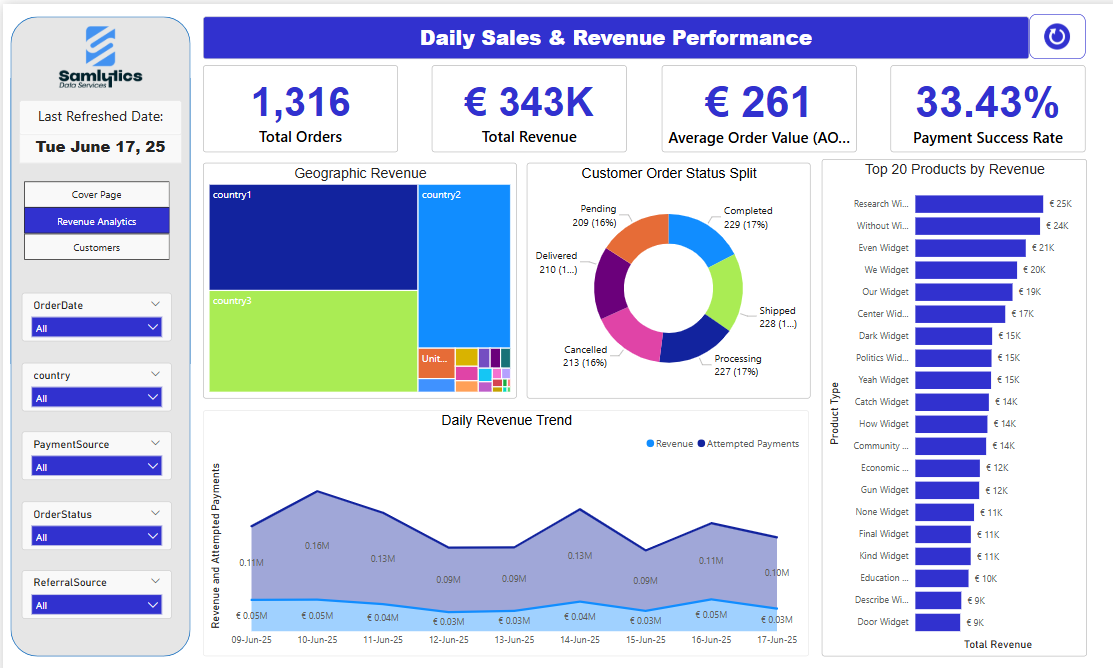

This screenshot's page, from the dashboard's own definition file:
{"tool":"powerbi","page":{"name":"Revenue Analytics","canvas":[1500,900],"ordinal":1},"visuals":[{"type":"shape","box":[10,16.7,240,853.3],"z":0},{"type":"textbox","box":[266.7,16.7,1101.7,56.7],"z":1000},{"type":"card","title":"Total Revenue","fields":{"Values":["Measures_Table.Total Revenue"]},"box":[572,82,260,116],"z":2000},{"type":"card","title":"Total Orders","fields":{"Values":["Measures_Table.Total Orders"]},"box":[266,82,260,116],"z":3000},{"type":"card","title":"Last Refreshed","fields":{"Values":["Measures_Table.Last Report Date"]},"box":[22,172,217,41],"z":4000},{"type":"textbox","box":[21.7,128.3,216.7,46.7],"z":5000},{"type":"card","title":"Average Order Value (AOV)","fields":{"Values":["Measures_Table.Average Order Value (AOV)"]},"box":[878,82,260,116],"z":6000},{"type":"card","title":"Payment Success Rate","fields":{"Values":["Measures_Table.Payment Success Rate"]},"box":[1184,82,260,116],"z":7000},{"type":"stackedAreaChart","title":"Daily Revenue Trend","fields":{"Category":["DateTable.Date"],"Y":["Measures_Table.Total Revenue","Measures_Table.Total Payment Attempt"]},"box":[266.7,541.7,808.3,328.3],"z":8000},{"type":"clusteredBarChart","title":"Top 20 Products by Revenue","fields":{"Y":["Measures_Table.Total Revenue"],"Category":["Product_dim_view.Product Type"]},"box":[1091.7,206.7,353.3,663.3],"z":9000},{"type":"donutChart","title":"Customer Order Status Split ","fields":{"Y":["CountNonNull(Sales_fact.OrderId)"],"Category":["Sales_fact.OrderStatus"]},"box":[698,212,378,314],"z":10000},{"type":"treemap","title":"Geographic Revenue","fields":{"Group":["location_dim.country"],"Values":["Measures_Table.Total Revenue"]},"box":[266,212,418,314],"z":11000},{"type":"slicer","fields":{"Values":["Sales_fact.OrderDate"]},"box":[25,385,200,65],"z":12000},{"type":"slicer","fields":{"Values":["location_dim.country"]},"box":[25,477.5,200,65],"z":13000},{"type":"slicer","fields":{"Values":["payment_source_dim.PaymentSource"]},"box":[25,570,200,65],"z":14000},{"type":"slicer","fields":{"Values":["Sales_fact.OrderStatus"]},"box":[25,662.5,200,65],"z":15000},{"type":"slicer","fields":{"Values":["Sales_fact.ReferralSource"]},"box":[25,755,200,65],"z":16000},{"type":"pageNavigator","box":[25,233.3,200,113.3],"z":17000},{"type":"image","box":[1368.3,13.3,75,60],"z":19000},{"type":"image","box":[21.4,25.7,217.1,91.4],"z":19001}]}

Visuals, with their boxes in screenshot pixels (x1, y1, x2, y2), scaled from the page's 1500x900 canvas onto the 1113x668 screenshot:
shape: 7, 12, 186, 646
textbox: 198, 12, 1015, 54
"Total Revenue" card: 424, 61, 617, 147
"Total Orders" card: 197, 61, 390, 147
"Last Refreshed" card: 16, 128, 177, 158
textbox: 16, 95, 177, 130
"Average Order Value (AOV)" card: 651, 61, 844, 147
"Payment Success Rate" card: 879, 61, 1071, 147
"Daily Revenue Trend" stackedAreaChart: 198, 402, 798, 646
"Top 20 Products by Revenue" clusteredBarChart: 810, 153, 1072, 646
"Customer Order Status Split " donutChart: 518, 157, 798, 390
"Geographic Revenue" treemap: 197, 157, 508, 390
slicer - Sales_fact.OrderDate: 19, 286, 167, 334
slicer - location_dim.country: 19, 354, 167, 403
slicer - payment_source_dim.PaymentSource: 19, 423, 167, 471
slicer - Sales_fact.OrderStatus: 19, 492, 167, 540
slicer - Sales_fact.ReferralSource: 19, 560, 167, 609
pageNavigator: 19, 173, 167, 257
image: 1015, 10, 1071, 54
image: 16, 19, 177, 87
